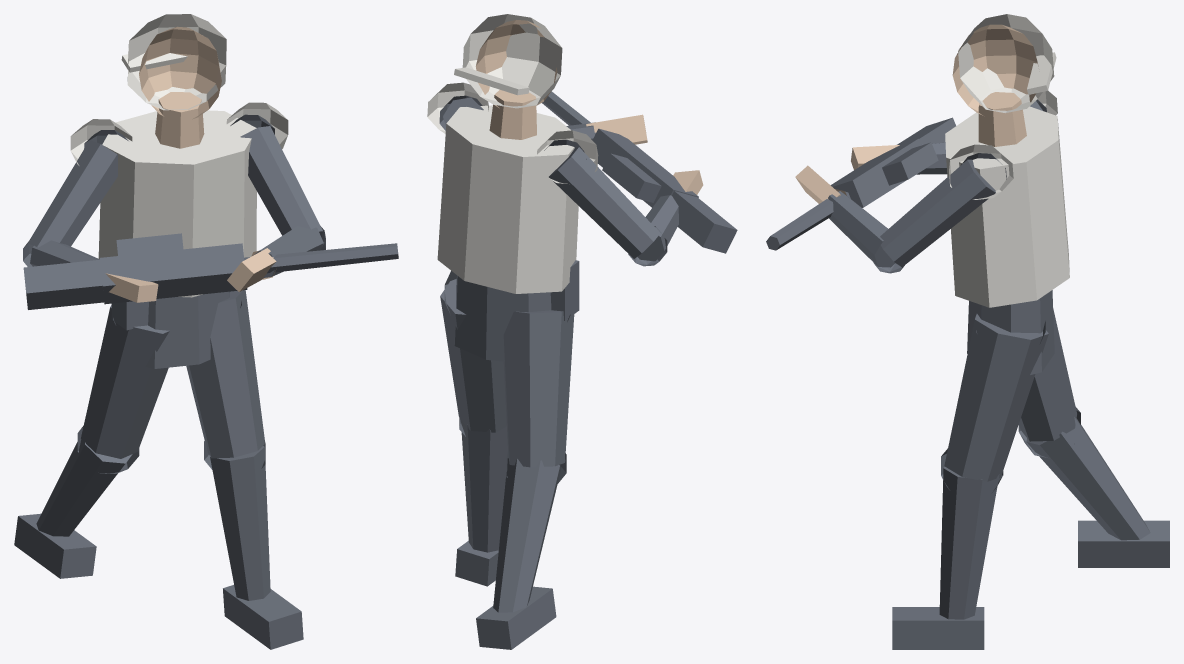
File: low-poly-character-figures-trooper-aiming-aa9c12fe__36383.glb
3 renders of one model, left to right at view 1: azimuth 30°, elevation 25°; view 2: azimuth 150°, elevation 25°; view 3: azimuth 270°, elevation 25°, orthographic. The views are drawn at different scales.
Parts seen in each view (by area): view 1: trooper-aiming; view 2: trooper-aiming; view 3: trooper-aiming.
Part boxes in pixels (bbox=[...]): trooper-aiming: bbox=[14, 14, 398, 649]; trooper-aiming: bbox=[427, 14, 737, 649]; trooper-aiming: bbox=[766, 14, 1169, 649].
Bounding box in the file's own units: 0.9638 × 1.85 × 1.13.
